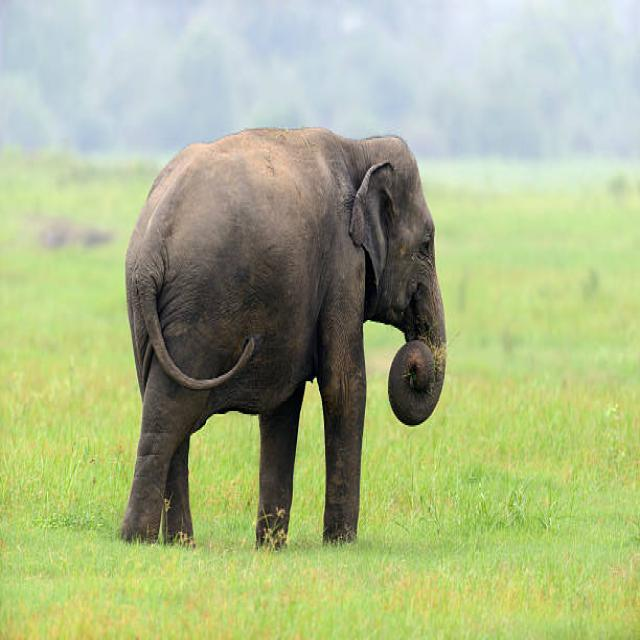Elephant: (117, 121, 451, 548)
